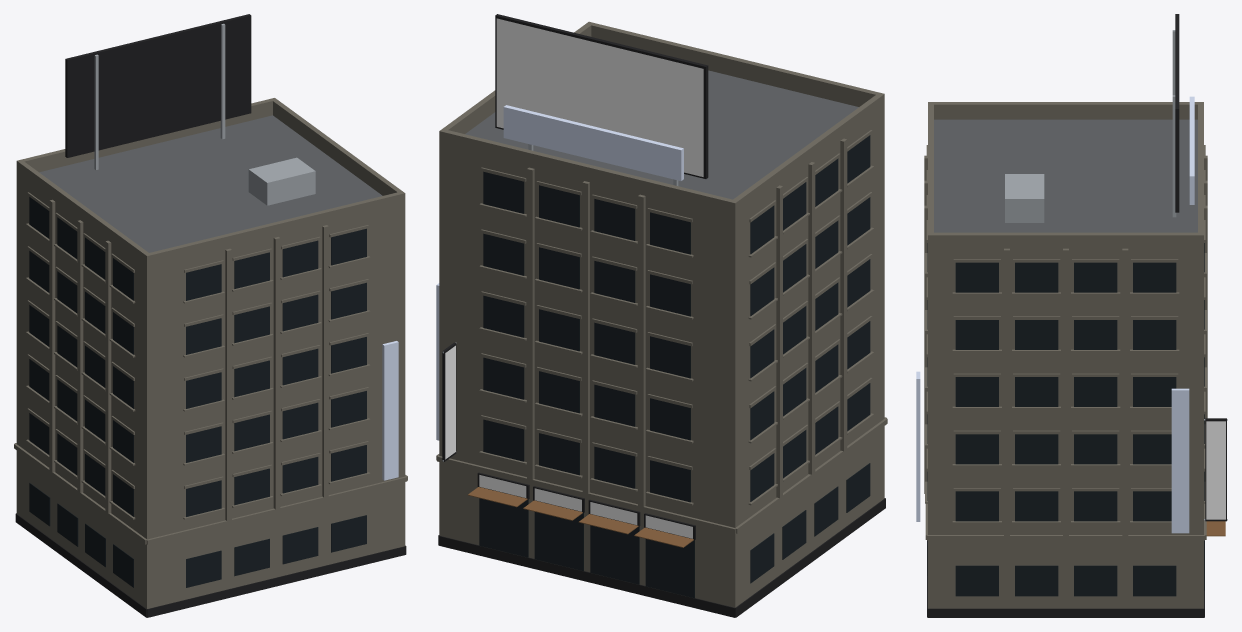
File: B_SH_MID.glb
The picture shows the model from 3 angles, left to right: view 1: azimuth 30°, elevation 25°; view 2: azimuth 150°, elevation 25°; view 3: azimuth 270°, elevation 25°; orthographic projection. The views are drawn at different scales.
Parts seen in each view (by area): view 1: concreteProp_0, glass_2, roofMetal_7, tread_1, steel_5, screen_6; view 2: concreteProp_0, glass_2, citySign_3, roofMetal_7, tread_1, screen_6, wood_4; view 3: concreteProp_0, glass_2, roofMetal_7, tread_1, screen_6, steel_5, citySign_3.
Boxes of the visible parts, x1=… form: concreteProp_0: x1=14, y1=98, x2=407, y2=608; glass_2: x1=29, y1=197, x2=366, y2=587; roofMetal_7: x1=39, y1=115, x2=382, y2=252; tread_1: x1=15, y1=14, x2=406, y2=617; steel_5: x1=94, y1=23, x2=315, y2=205; screen_6: x1=382, y1=341, x2=398, y2=480; concreteProp_0: x1=436, y1=21, x2=887, y2=607; glass_2: x1=479, y1=135, x2=870, y2=598; citySign_3: x1=445, y1=18, x2=703, y2=538; roofMetal_7: x1=465, y1=70, x2=858, y2=199; tread_1: x1=438, y1=14, x2=885, y2=617; screen_6: x1=436, y1=105, x2=683, y2=440; wood_4: x1=468, y1=487, x2=693, y2=547; concreteProp_0: x1=924, y1=102, x2=1207, y2=608; glass_2: x1=927, y1=243, x2=1204, y2=596; roofMetal_7: x1=934, y1=119, x2=1197, y2=232; tread_1: x1=927, y1=14, x2=1226, y2=617; screen_6: x1=916, y1=96, x2=1194, y2=533; steel_5: x1=1005, y1=30, x2=1227, y2=520; citySign_3: x1=1206, y1=421, x2=1225, y2=519.
Bounding box in the file's own units: 16.79 × 27.4 × 15.8.
